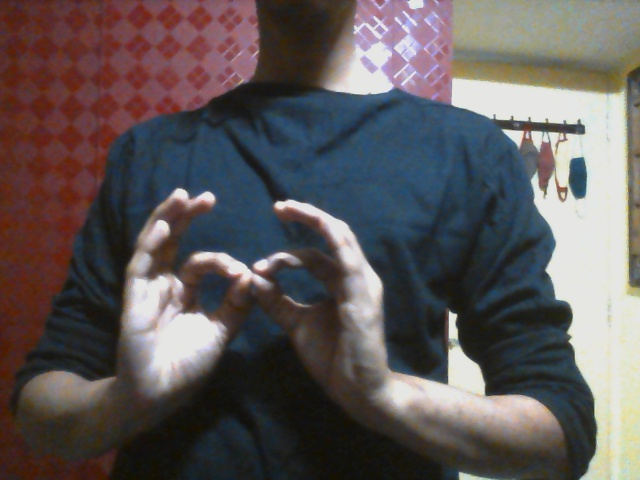B: (114, 186, 391, 441)
